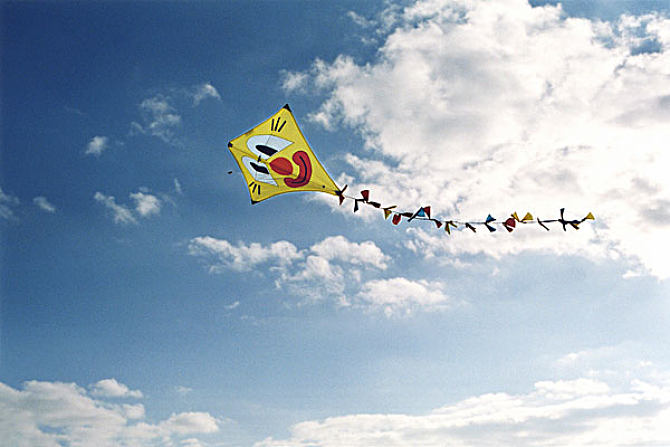kite: (224, 103, 595, 236)
